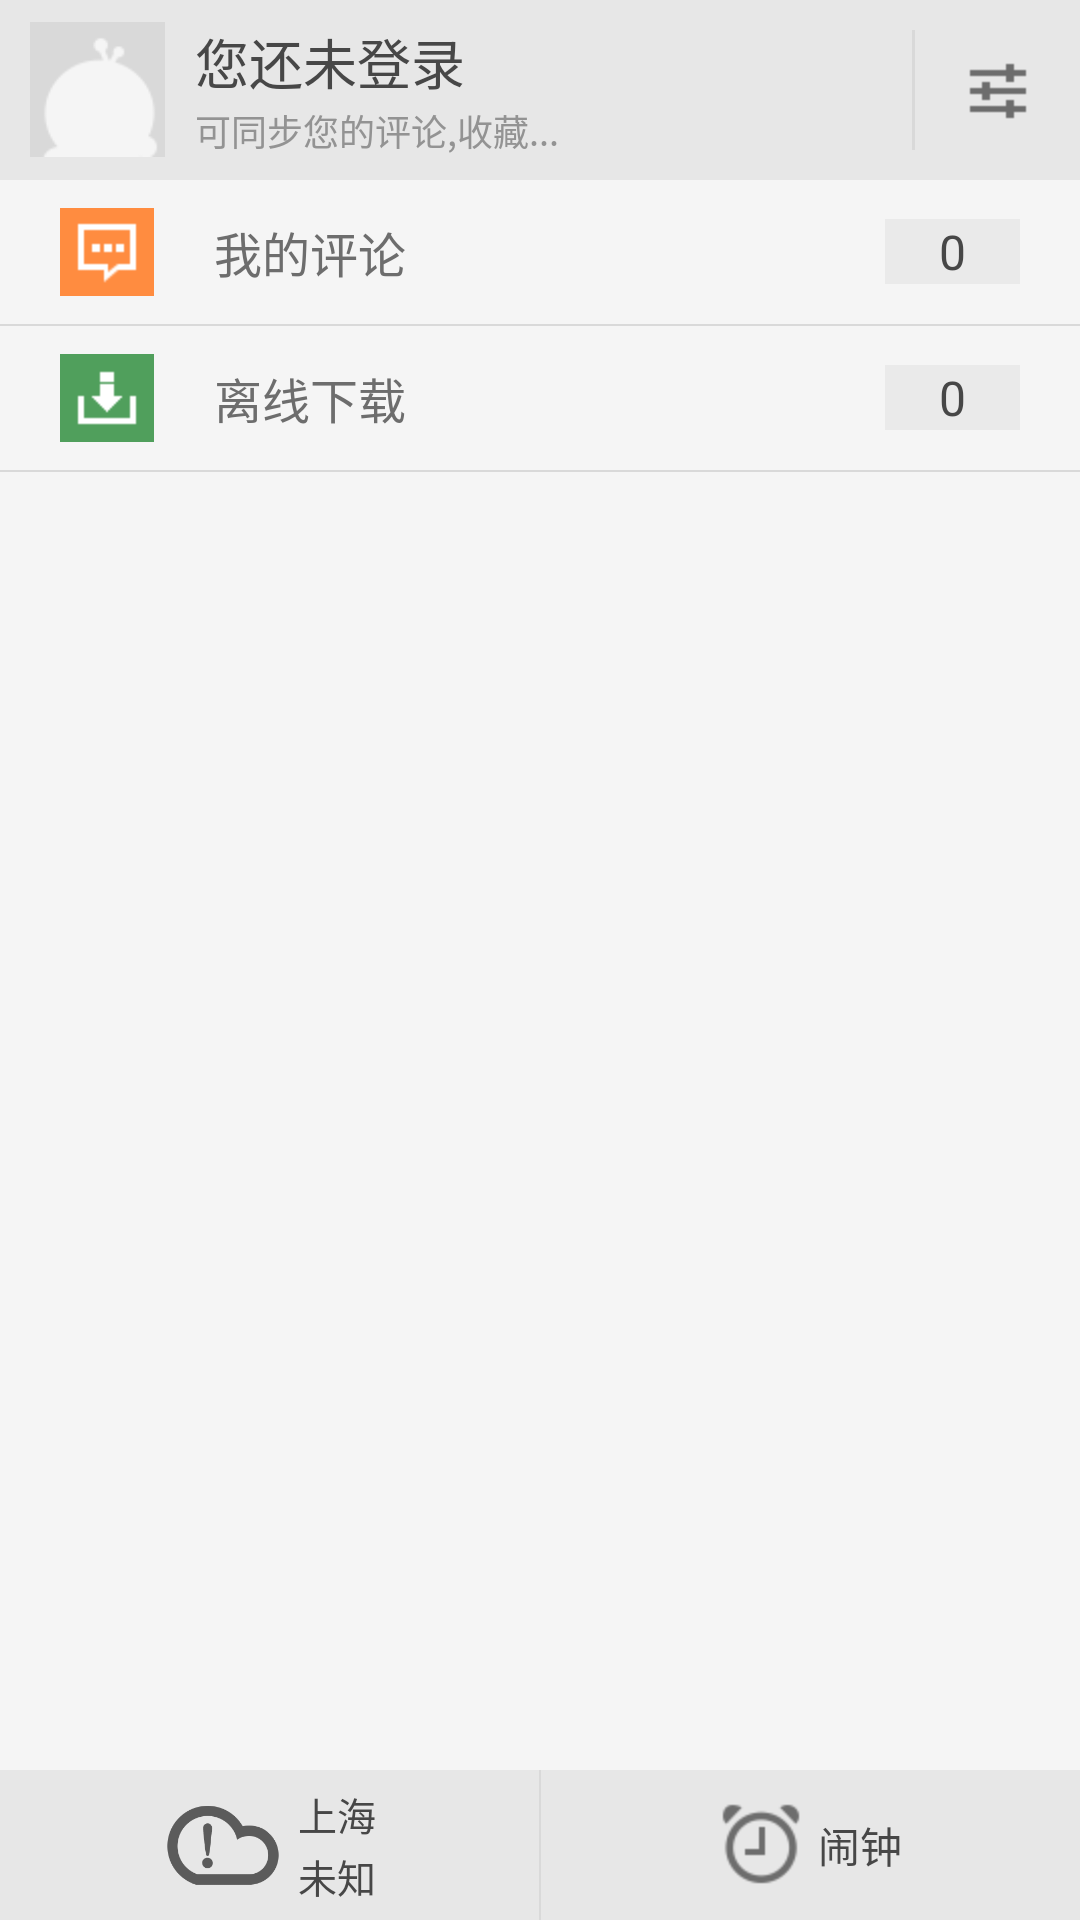

Icons on this 1080px×1920px Android screen, each with the point to tap as point (x, y):
mycomment: point (107, 252)
offline: point (107, 398)
setting: point (998, 91)
weather: point (223, 1845)
